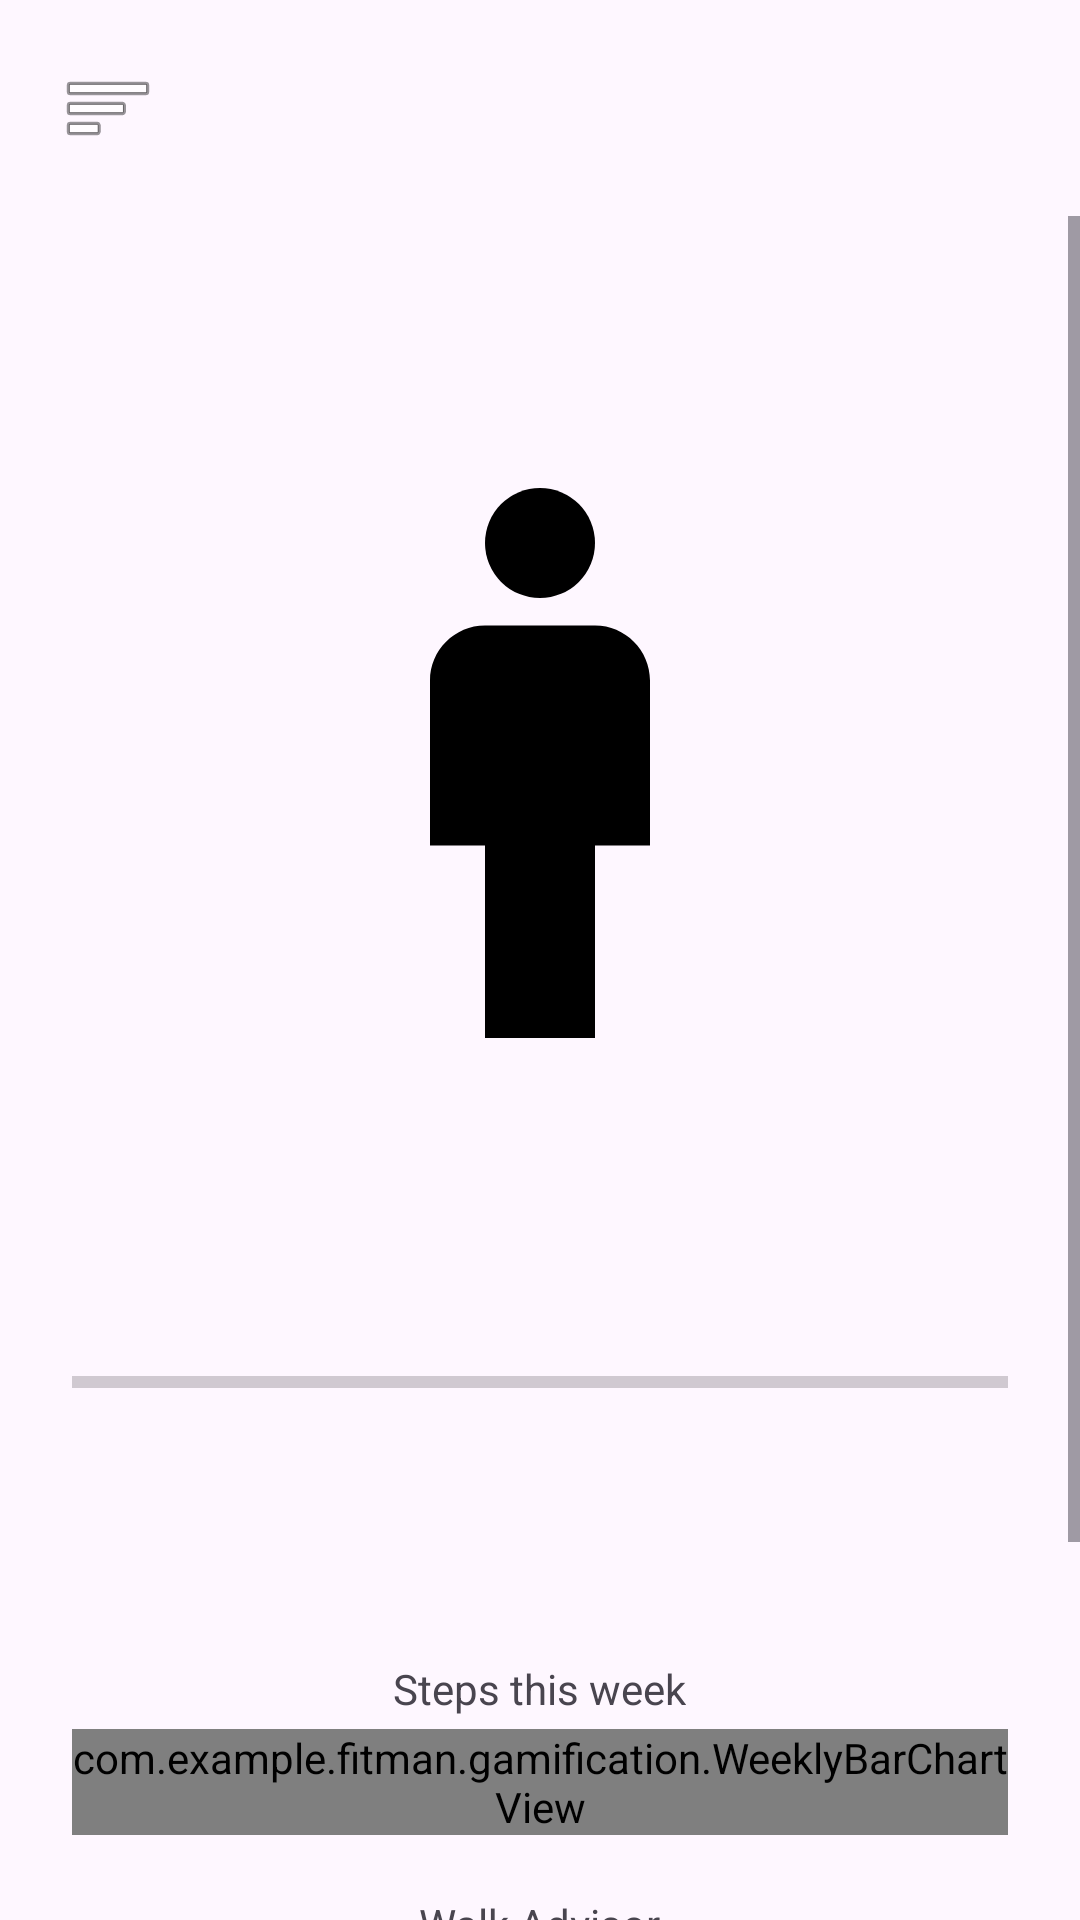

Screen size 1080px×1920px. Icon name, then its center in pixels as (x=x, y=y):
Open menu: (x=108, y=108)
